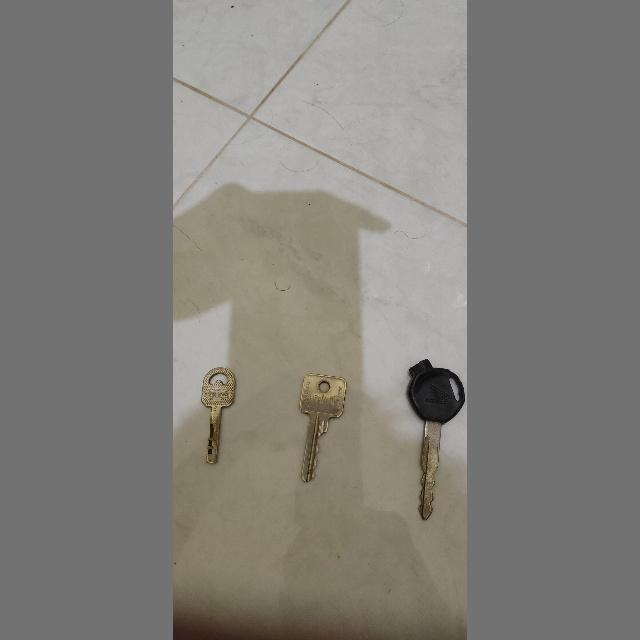Keys: (401, 358, 464, 526), (291, 365, 353, 493), (193, 366, 245, 478)
